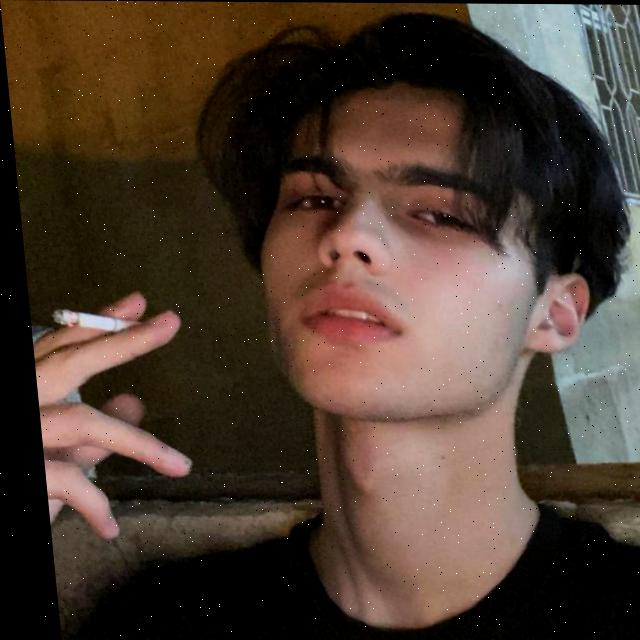cigarette: (44, 305, 141, 336)
